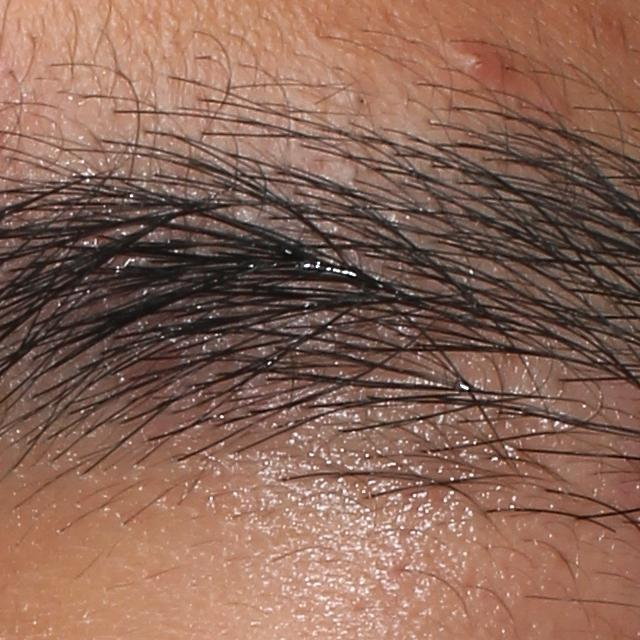comedo: (347, 89, 370, 110)
papule: (451, 45, 507, 80)
